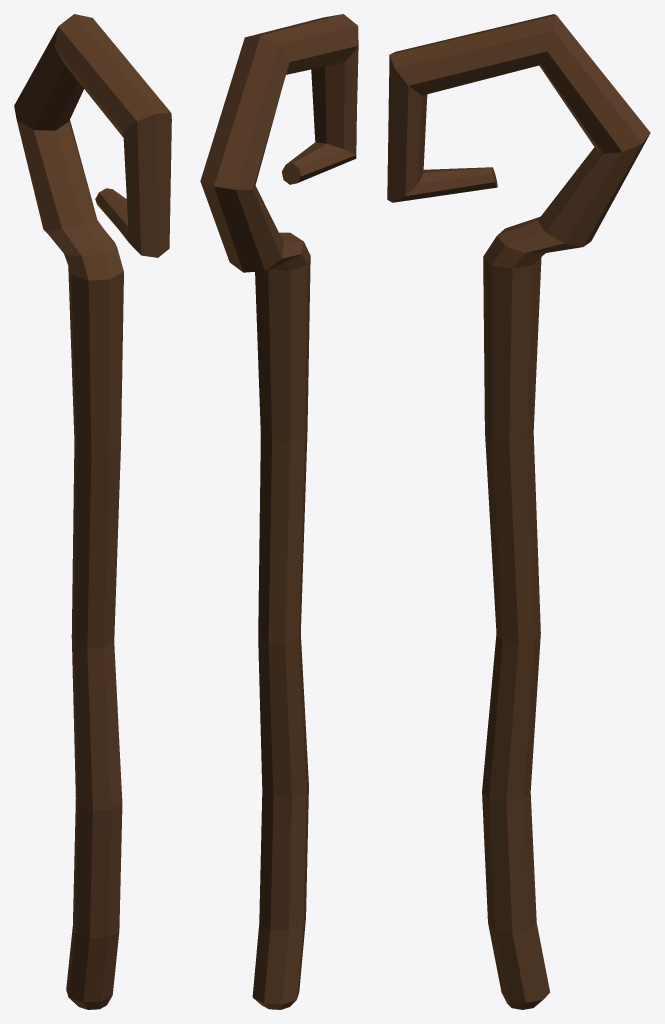
The model's file is WoodenStaff.glb.
The picture shows the model from 3 angles, left to right: view 1: azimuth 30°, elevation 25°; view 2: azimuth 150°, elevation 25°; view 3: azimuth 270°, elevation 25°; orthographic projection.
Parts seen in each view (by area): view 1: WoodenStaff; view 2: WoodenStaff; view 3: WoodenStaff.
Part boxes in pixels (x1,y1,x2,y2): WoodenStaff: [14, 14, 171, 1009]; WoodenStaff: [200, 14, 358, 1009]; WoodenStaff: [387, 14, 650, 1009].
Bounding box in the file's own units: 0.0857 × 1.6 × 0.3867.
